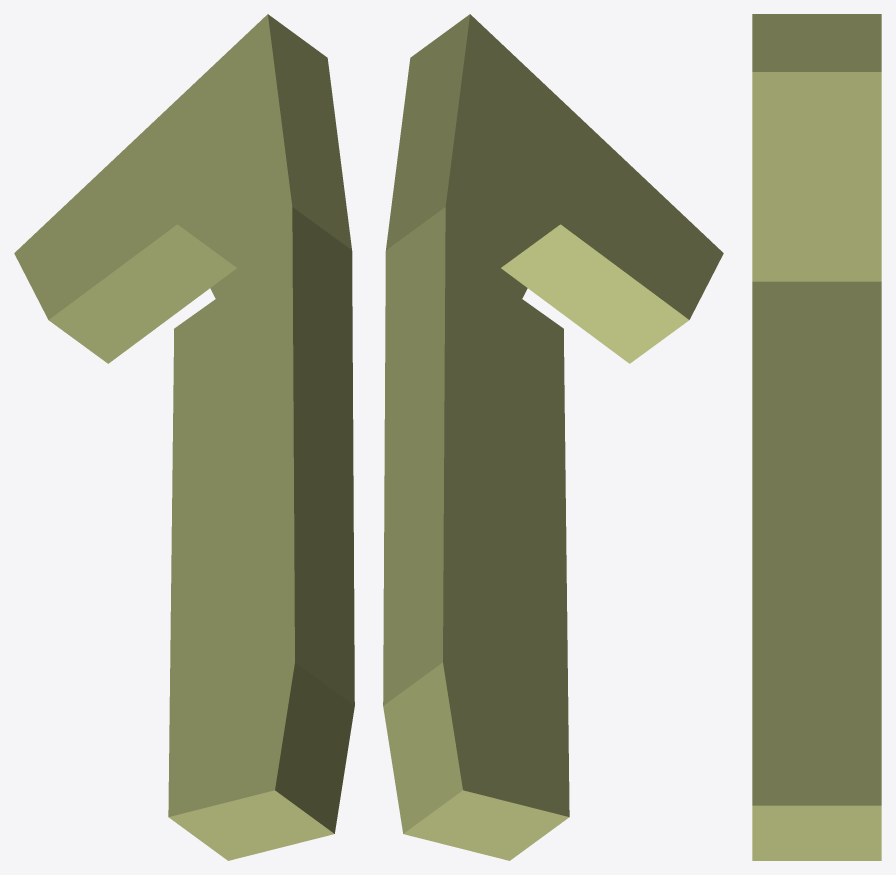
3 renders of one model, left to right at view 1: azimuth 30°, elevation 25°; view 2: azimuth 150°, elevation 25°; view 3: azimuth 270°, elevation 25°, orthographic. The views are drawn at different scales.
Visible parts, largest first — view 1: 0_1_0_0_1_0_0_2_1; view 2: 0_1_0_0_1_0_0_2_1; view 3: 0_1_0_0_1_0_0_2_1.
Boxes of the visible parts, bbox=[...] form: 0_1_0_0_1_0_0_2_1: bbox=[14, 14, 354, 860]; 0_1_0_0_1_0_0_2_1: bbox=[383, 14, 723, 860]; 0_1_0_0_1_0_0_2_1: bbox=[752, 14, 881, 860].
Bounding box in the file's own units: 16.27 × 43.1 × 6.
